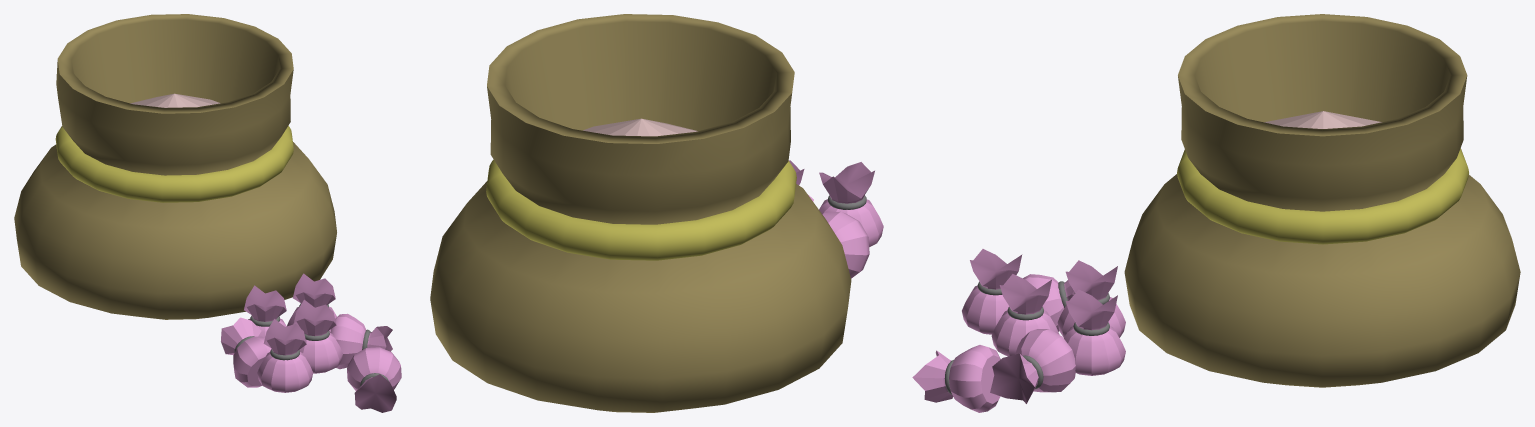
The model's file is fairy sack.fbx.
3 renders of one model, left to right at view 1: azimuth 30°, elevation 25°; view 2: azimuth 150°, elevation 25°; view 3: azimuth 270°, elevation 25°, orthographic. The views are drawn at different scales.
Parts seen in each view (by area): view 1: polySurface23; view 2: polySurface23; view 3: polySurface23.
Part boxes in pixels (x1,y1,x2,y2): polySurface23: (14,14,401,412); polySurface23: (430,14,883,412); polySurface23: (912,14,1520,412).
Bounding box in the file's own units: 6.78 × 5.65 × 10.41.
